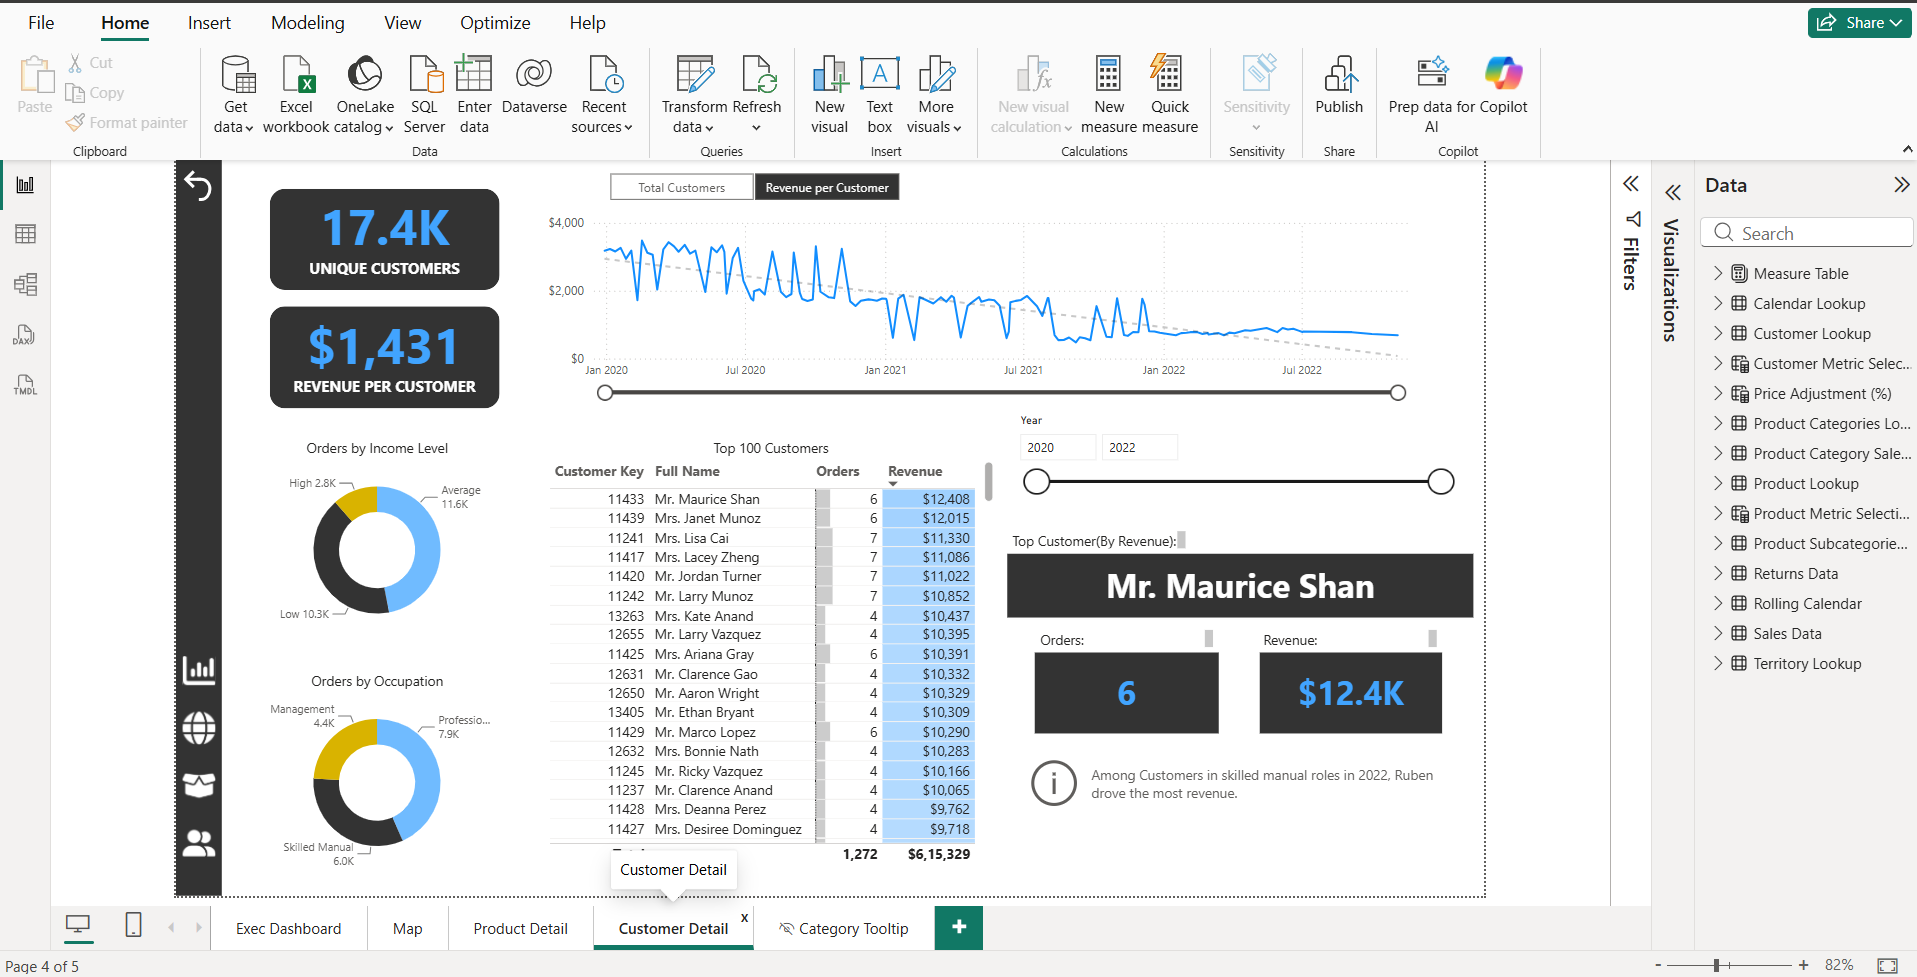

This screenshot's page, from the dashboard's own definition file:
{"tool":"powerbi","page":{"name":"Customer Detail","canvas":[1280,720],"ordinal":3},"visuals":[{"type":"shape","box":[0,0,45,719.8],"z":0},{"type":"actionButton","box":[2.4,479.4,45.2,40.4],"z":0,"group":"g1"},{"type":"shape","box":[91.7,28.1,225,99],"z":1000},{"type":"actionButton","box":[2.4,591.9,45.2,40.4],"z":1000,"group":"g1"},{"type":"card","fields":{"Values":["Measure Table.Total Customers"]},"box":[91.7,19.6,225,107.6],"z":2000},{"type":"actionButton","box":[2.4,648.2,45.2,40.4],"z":2000,"group":"g1"},{"type":"shape","box":[91.6,143.5,225,100],"z":3000},{"type":"actionButton","box":[2.4,535.7,45.2,40.4],"z":3000,"group":"g1"},{"type":"card","fields":{"Values":["Measure Table.Average Revenue per Customer"]},"box":[91.6,136,225,107.6],"z":4000},{"type":"lineChart","fields":{"Y":["Measure Table.Average Revenue per Customer"],"Category":["Calendar Lookup.Date Hierarchy.Start of Year","Calendar Lookup.Date Hierarchy.Start of Month","Calendar Lookup.Date Hierarchy.Start of Week","Calendar Lookup.Date Hierarchy.Date"]},"box":[359.5,47.7,860.9,190.8],"z":5000},{"type":"donutChart","title":"Orders by Income Level","fields":{"Category":["Customer Lookup.Income Level"],"Y":["Measure Table.Total Orders"]},"box":[77,272.7,239.7,200.5],"z":6000},{"type":"donutChart","title":"Orders by Occupation","fields":{"Y":["Measure Table.Total Orders"],"Category":["Customer Lookup.Occupation"]},"box":[77,500.1,239.7,200.5],"z":7000},{"type":"tableEx","title":"Top 100 Customers","fields":{"Values":["Customer Lookup.CustomerKey","Customer Lookup.Full Name","Measure Table.Total Orders","Measure Table.Total Revenue"]},"box":[359.5,272.7,445.1,419.4],"z":8000},{"type":"card","fields":{"Values":["Min(Customer Lookup.Full Name)"]},"box":[813.2,385.4,456.1,62.4],"z":9000},{"type":"card","fields":{"Values":["Measure Table.Total Revenue"]},"box":[1060.2,482,178.5,79.5],"z":10000},{"type":"card","fields":{"Values":["Measure Table.Total Orders"]},"box":[840.1,482,179.8,79.5],"z":11000},{"type":"textbox","box":[813.2,358.5,179.8,26.9],"z":12000},{"type":"textbox","box":[840.1,455.1,179.8,26.9],"z":13000},{"type":"textbox","box":[1059,455.1,179.8,26.9],"z":14000},{"type":"slicer","fields":{"Values":["Calendar Lookup.Year"]},"box":[813.2,243.3,445.1,88],"z":15000},{"type":"actionButton","box":[830.3,580.8,428,57.5],"z":16000},{"type":"actionButton","box":[1.2,4.9,44,40.4],"z":17000},{"type":"group","id":"g1","title":"Navigation Buttons","box":[2.4,479.4,45.2,209.1],"z":18000},{"type":"slicer","fields":{"Values":["Customer Metric Selection.Customer Metric Selection"]},"box":[398.6,6.1,332.6,39.1],"z":18501}]}

Visuals, with their boxes on the page's 1280x720 design canvas (x1, y1, x2, y2). These are canvas units, not pixel positions in the 1917x977 screenshot, which may show the page scaled, cropped or inside an application window:
shape: pyautogui.locateOnScreen(0, 0, 45, 720)
actionButton: pyautogui.locateOnScreen(2, 479, 48, 520)
shape: pyautogui.locateOnScreen(92, 28, 317, 127)
actionButton: pyautogui.locateOnScreen(2, 592, 48, 632)
card - Measure Table.Total Customers: pyautogui.locateOnScreen(92, 20, 317, 127)
actionButton: pyautogui.locateOnScreen(2, 648, 48, 689)
shape: pyautogui.locateOnScreen(92, 144, 317, 244)
actionButton: pyautogui.locateOnScreen(2, 536, 48, 576)
card - Measure Table.Average Revenue per Customer: pyautogui.locateOnScreen(92, 136, 317, 244)
lineChart - Measure Table.Average Revenue per Customer x Calendar Lookup.Date Hierarchy.Start of Year: pyautogui.locateOnScreen(360, 48, 1220, 238)
"Orders by Income Level" donutChart: pyautogui.locateOnScreen(77, 273, 317, 473)
"Orders by Occupation" donutChart: pyautogui.locateOnScreen(77, 500, 317, 701)
"Top 100 Customers" tableEx: pyautogui.locateOnScreen(360, 273, 805, 692)
card - Min(Customer Lookup.Full Name): pyautogui.locateOnScreen(813, 385, 1269, 448)
card - Measure Table.Total Revenue: pyautogui.locateOnScreen(1060, 482, 1239, 562)
card - Measure Table.Total Orders: pyautogui.locateOnScreen(840, 482, 1020, 562)
textbox: pyautogui.locateOnScreen(813, 358, 993, 385)
textbox: pyautogui.locateOnScreen(840, 455, 1020, 482)
textbox: pyautogui.locateOnScreen(1059, 455, 1239, 482)
slicer - Calendar Lookup.Year: pyautogui.locateOnScreen(813, 243, 1258, 331)
actionButton: pyautogui.locateOnScreen(830, 581, 1258, 638)
actionButton: pyautogui.locateOnScreen(1, 5, 45, 45)
"Navigation Buttons" group: pyautogui.locateOnScreen(2, 479, 48, 688)
slicer - Customer Metric Selection.Customer Metric Selection: pyautogui.locateOnScreen(399, 6, 731, 45)
